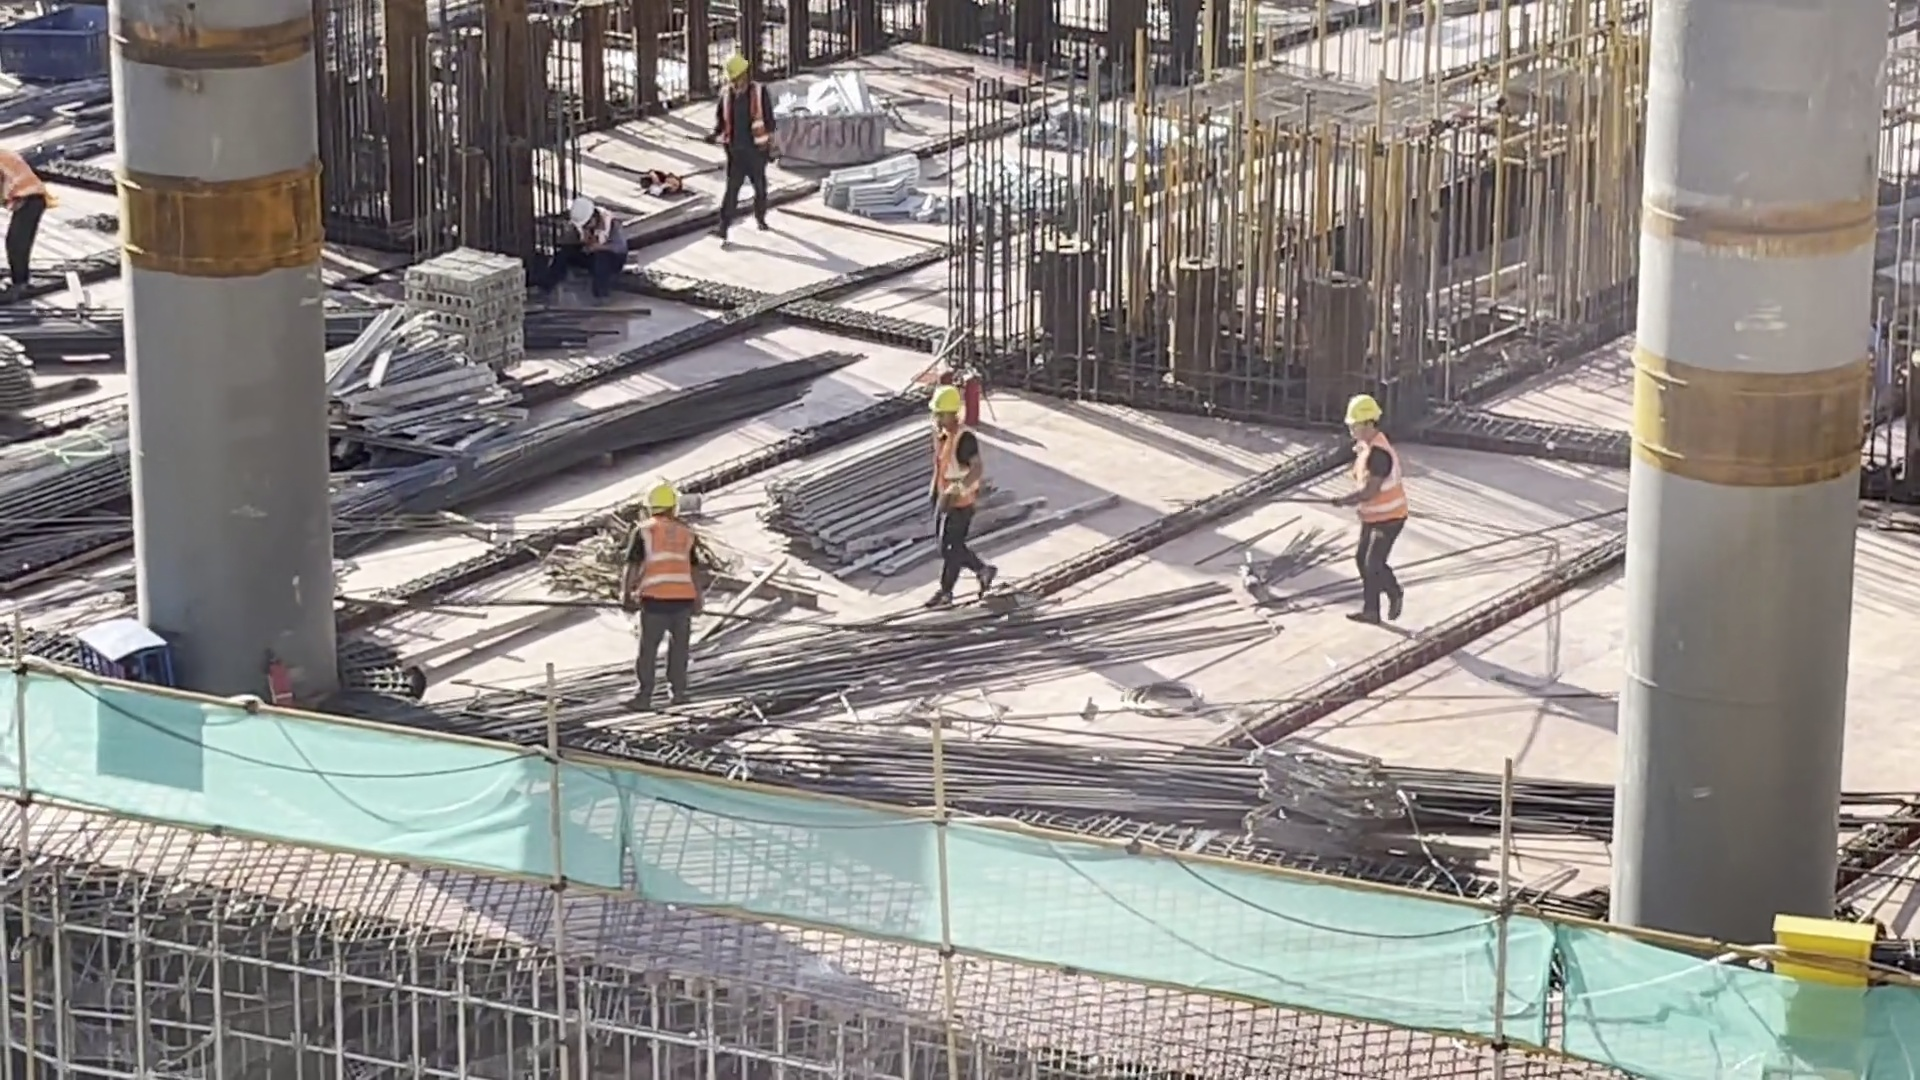ebox: (1764, 909, 1880, 1076)
helmet: (620, 476, 682, 516), (1338, 382, 1381, 434), (562, 191, 608, 226), (927, 383, 963, 416), (720, 50, 746, 79)
hopper: (767, 83, 896, 176)
person: (607, 483, 718, 738), (903, 376, 1014, 623), (1333, 402, 1429, 631), (707, 61, 777, 237), (556, 189, 655, 301)
vest: (626, 523, 696, 611), (1337, 442, 1401, 529), (923, 429, 982, 515), (724, 92, 775, 146)
wood: (771, 411, 971, 576), (5, 1, 110, 106)
